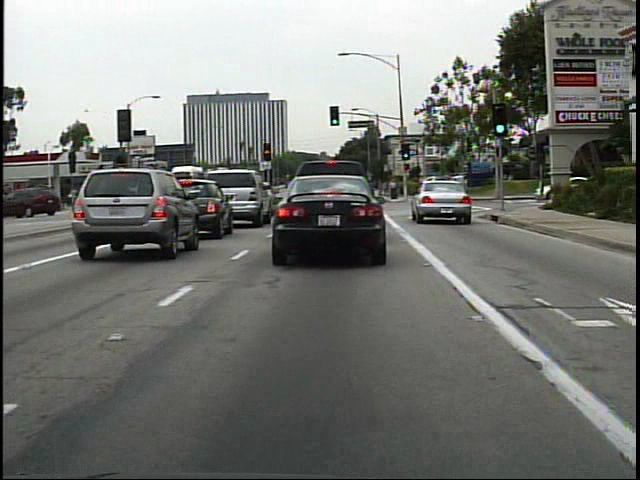person: (387, 177, 399, 202)
